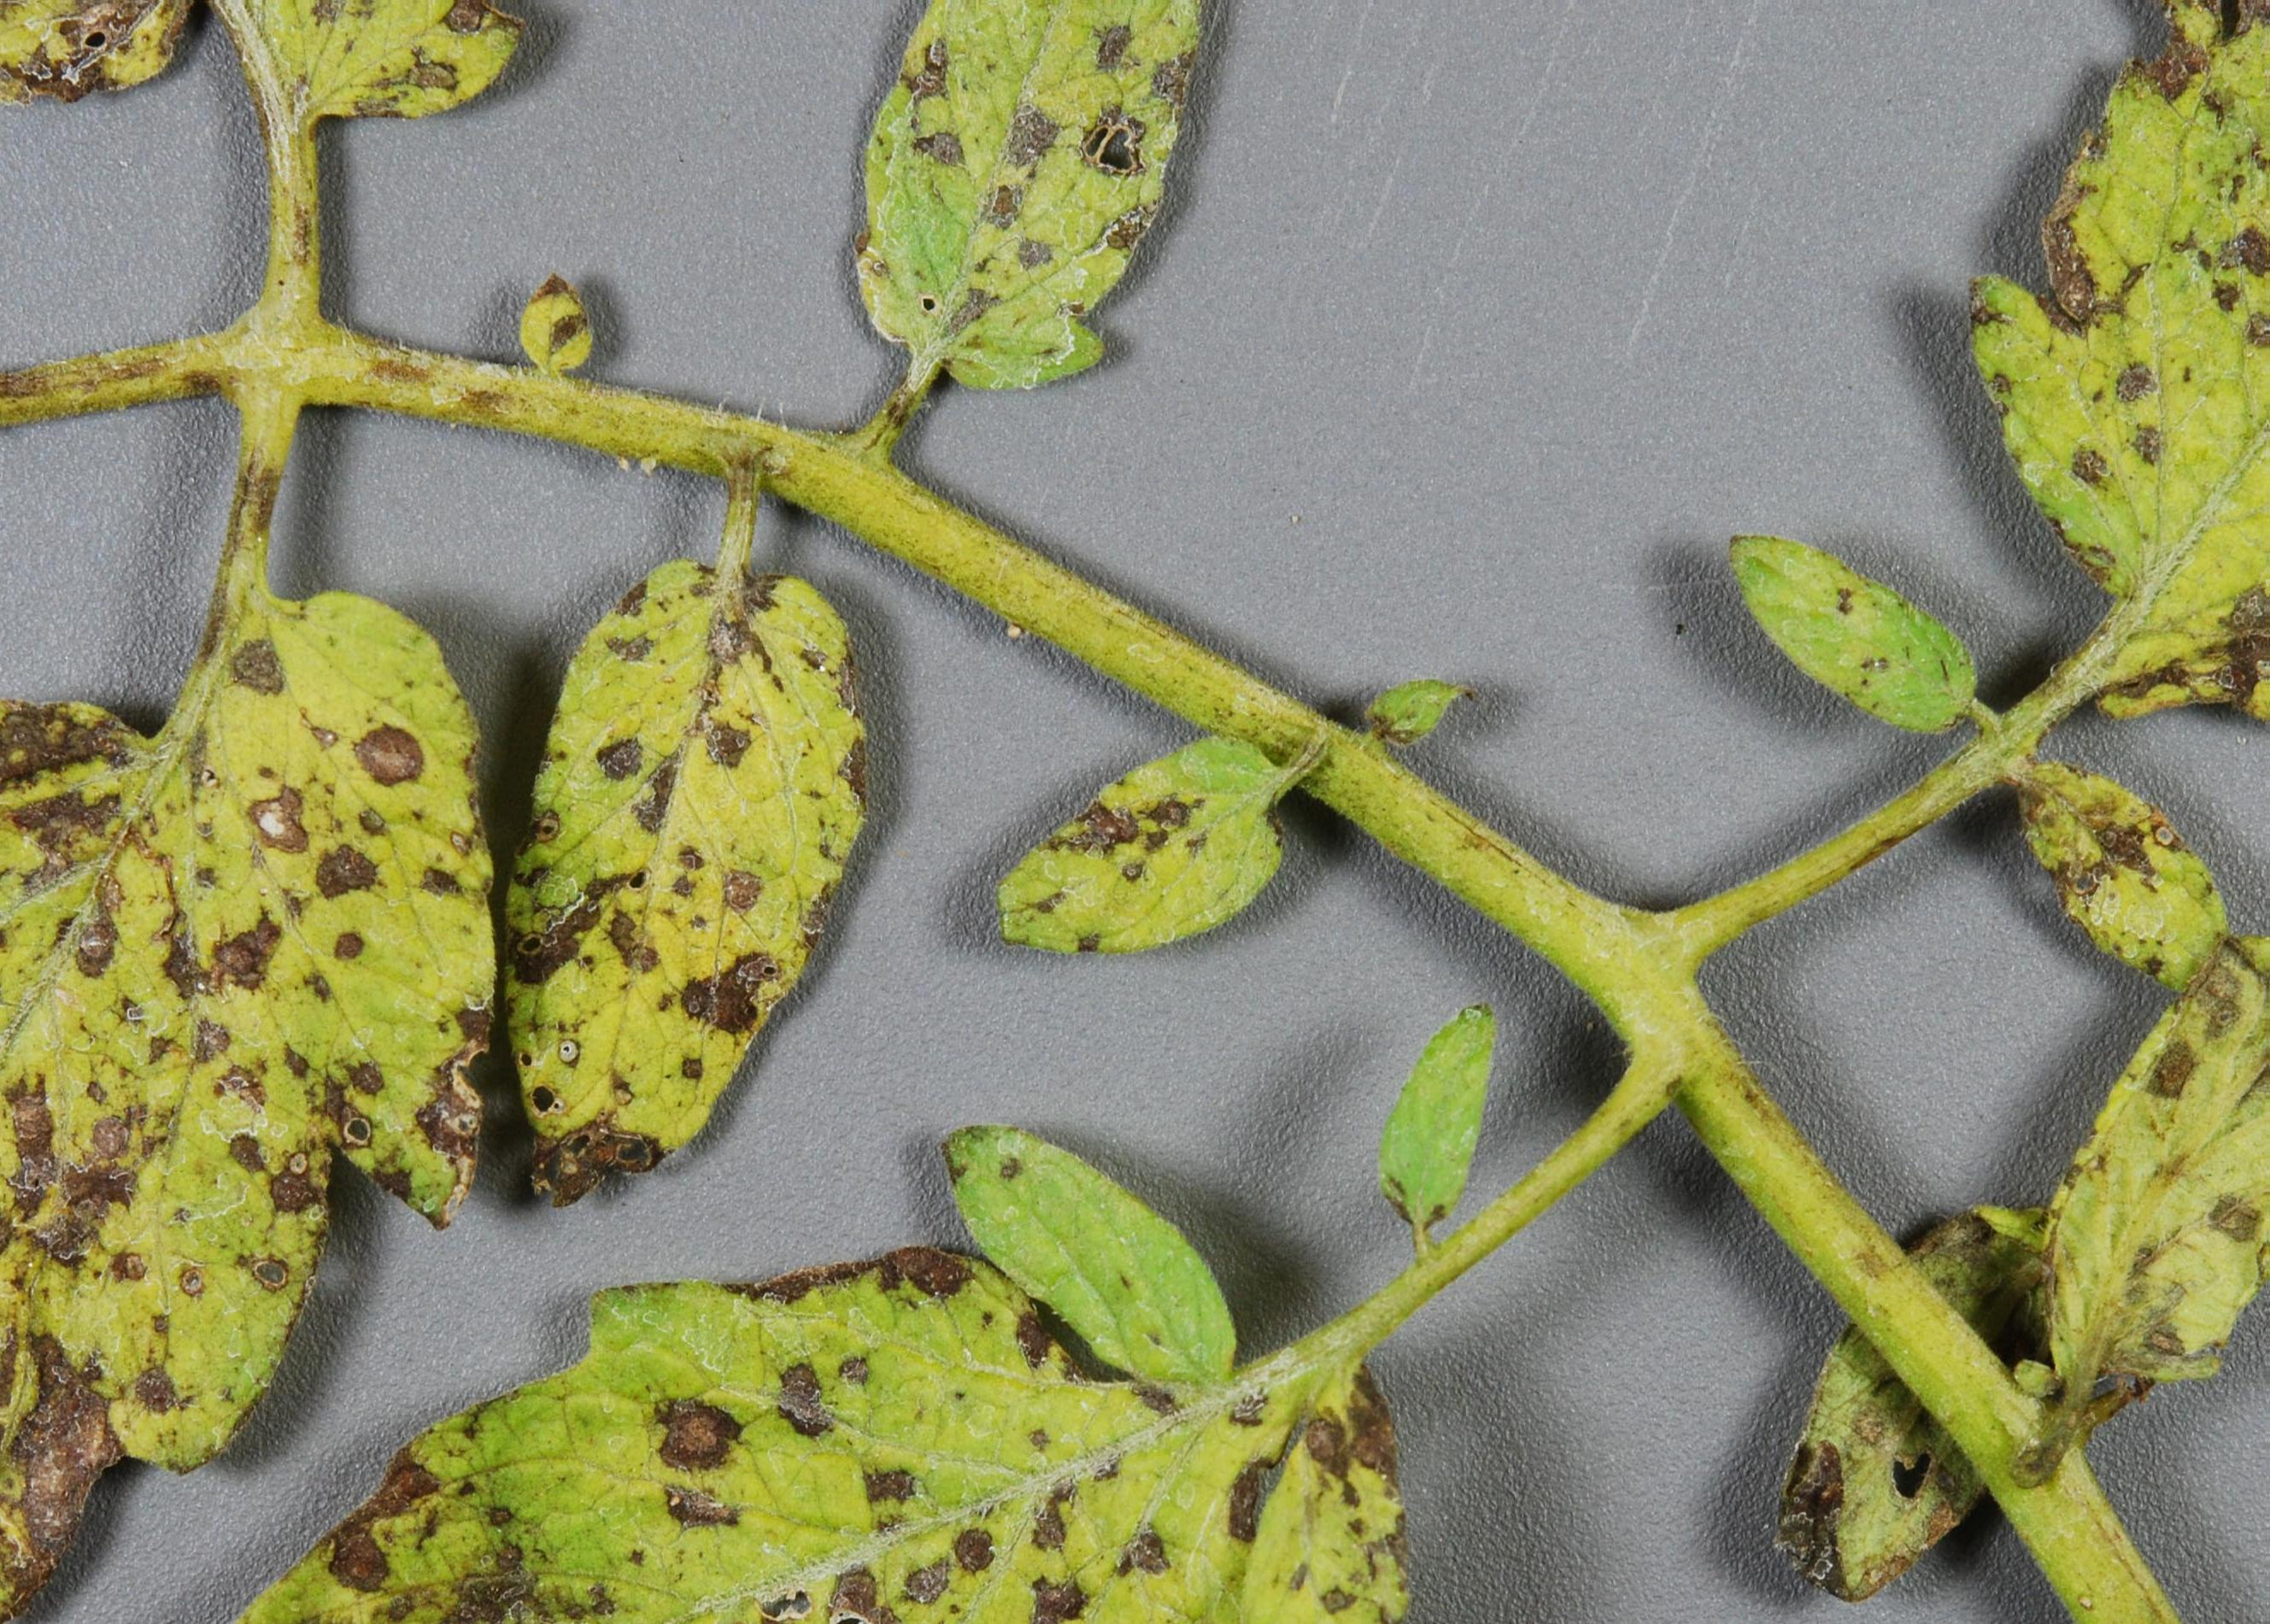Tomato Septoria leaf spot: (4, 1193, 1437, 1624), (0, 494, 504, 1624), (1868, 0, 2270, 830), (450, 559, 868, 1251), (771, 0, 1298, 408), (2040, 884, 2270, 1473), (951, 722, 1318, 1042)
